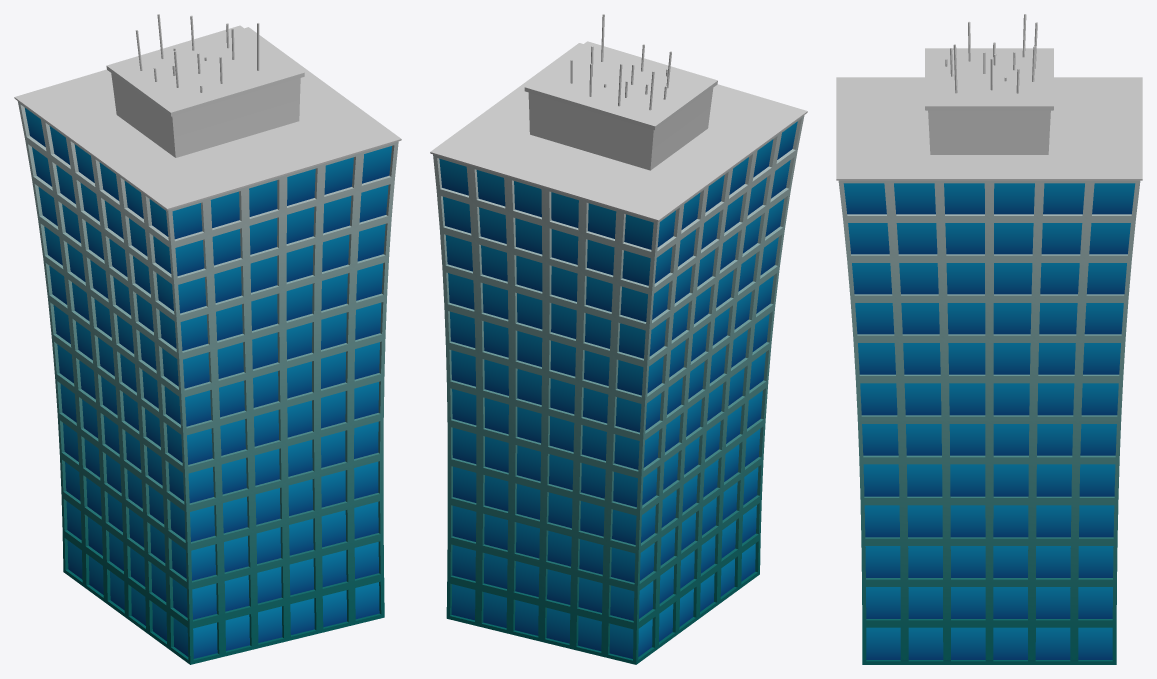
The model's file is SM_Enviro_Building_03.fbx.
The picture shows the model from 3 angles, left to right: view 1: azimuth 30°, elevation 25°; view 2: azimuth 150°, elevation 25°; view 3: azimuth 270°, elevation 25°; orthographic projection. The views are drawn at different scales.
Parts seen in each view (by area): view 1: null1; view 2: null1; view 3: null1.
Boxes of the visible parts, x1=… form: null1: x1=14, y1=14, x2=401, y2=664; null1: x1=430, y1=14, x2=807, y2=664; null1: x1=836, y1=14, x2=1142, y2=664.
Size of the model in its own units: 960 by 2270 by 1085.
